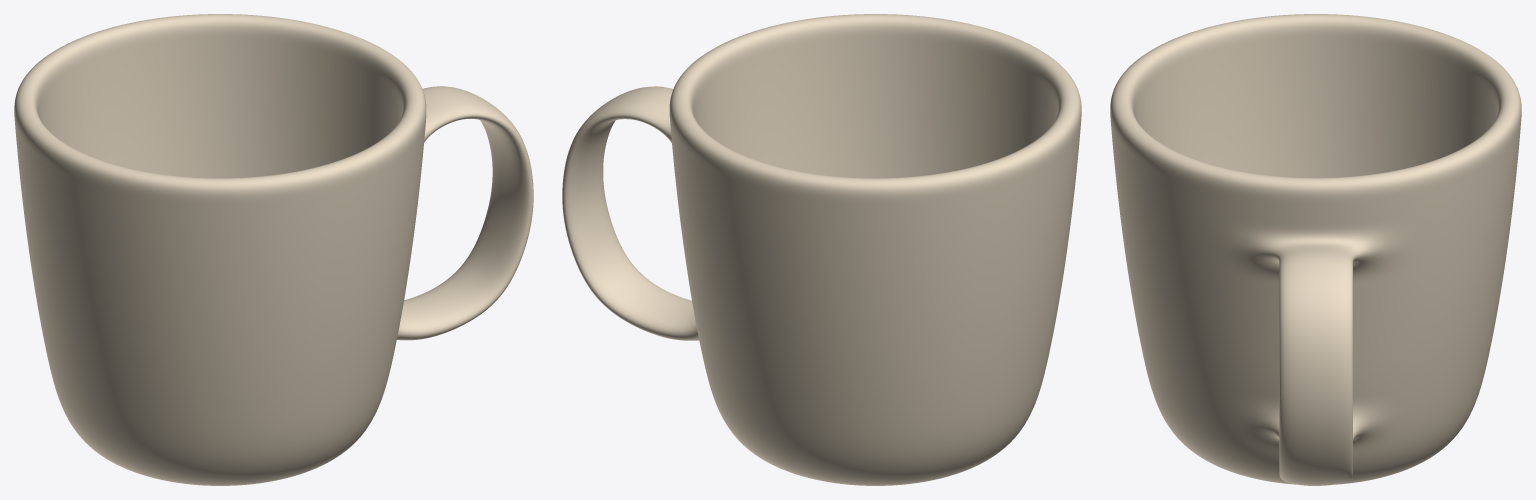
The model's file is mug-2.glb.
3 views of the same model, side by side, from view 1: azimuth 30°, elevation 25°; view 2: azimuth 150°, elevation 25°; view 3: azimuth 270°, elevation 25° (orthographic).
Visible parts, largest first — view 1: BezierCurve; view 2: BezierCurve; view 3: BezierCurve.
Boxes of the visible parts, x1=… form: BezierCurve: x1=14, y1=14, x2=533, y2=485; BezierCurve: x1=562, y1=14, x2=1081, y2=485; BezierCurve: x1=1110, y1=14, x2=1521, y2=485.
Size of the model in its own units: 2.73 by 1.86 by 2.03.
